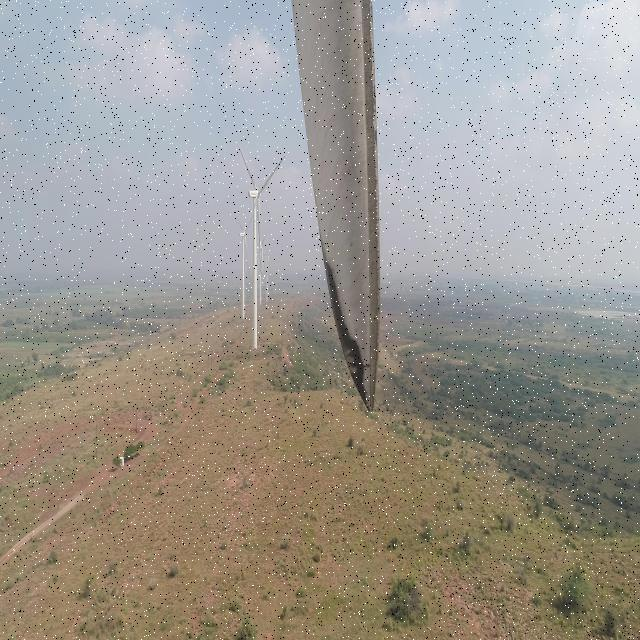Dirt: (291, 0, 383, 409)
Oil LEAKAGE: (324, 260, 372, 409)
Pin Hole: (362, 362, 374, 374)
